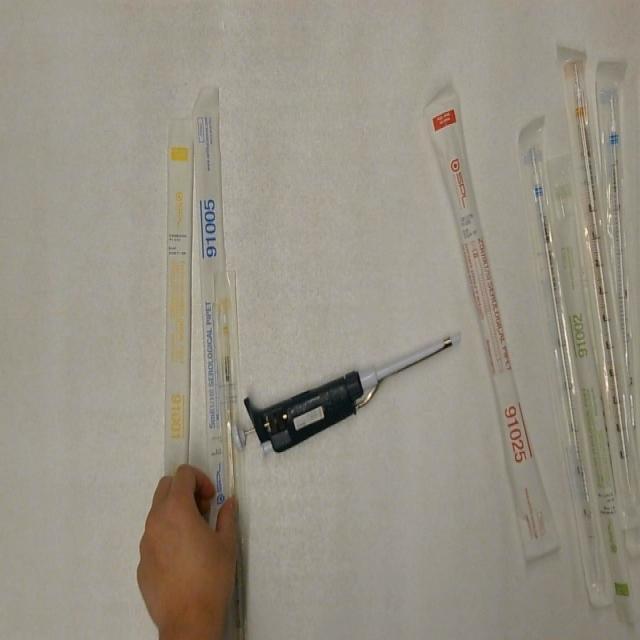Serelogical Pipet 1 mL: (212, 270, 250, 638), (165, 115, 195, 482)
Serelogical Pipet 10 mL: (562, 50, 638, 533)
Serelogical Pipet 2 mL: (552, 203, 638, 628)
Serelogical Pipet 5 mL: (516, 114, 614, 614), (192, 81, 237, 525), (595, 54, 636, 428)
Single Channel Pipettor: (424, 89, 566, 566), (229, 329, 465, 458)
